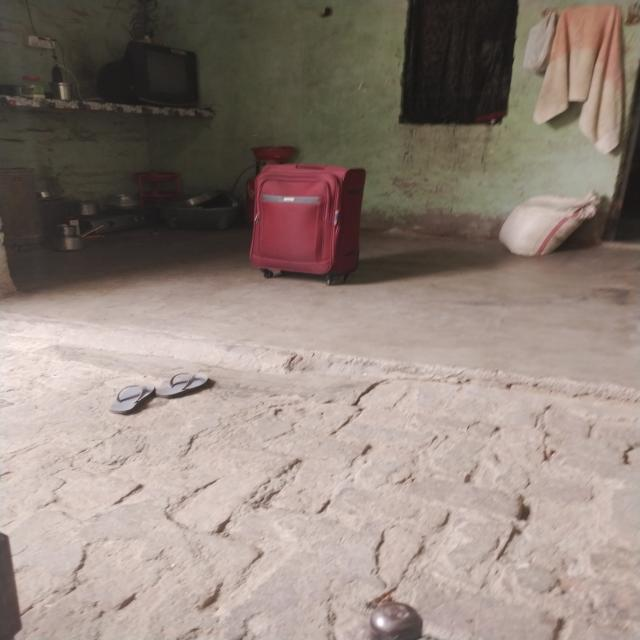suitcaserotation: (245, 161, 368, 288)
